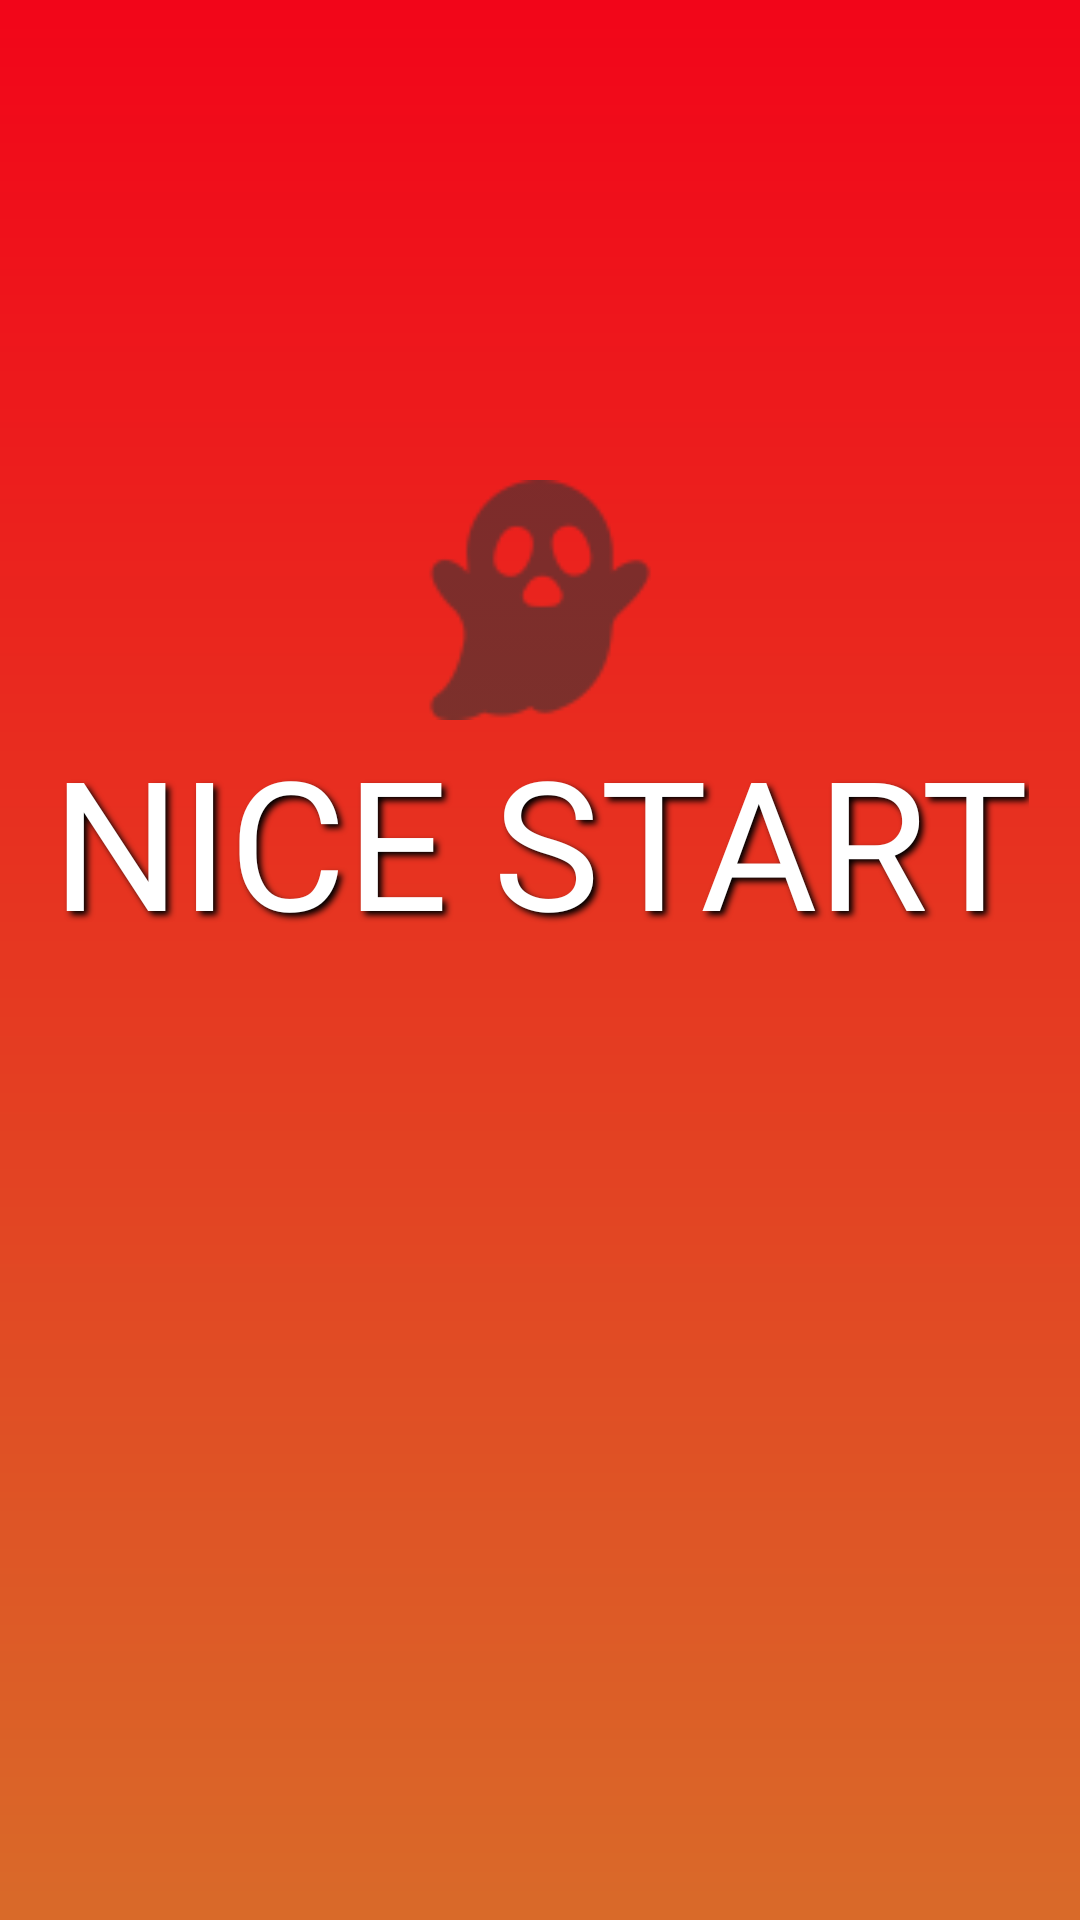

Where icons sit on this 1080 × 1920 app screen, as bbox(x1, y1, x2, y2):
ghost action bar: bbox(430, 480, 650, 720)
